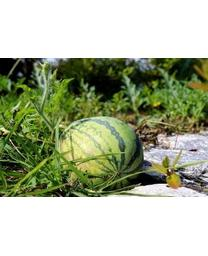watermelon: (51, 116, 143, 190)
